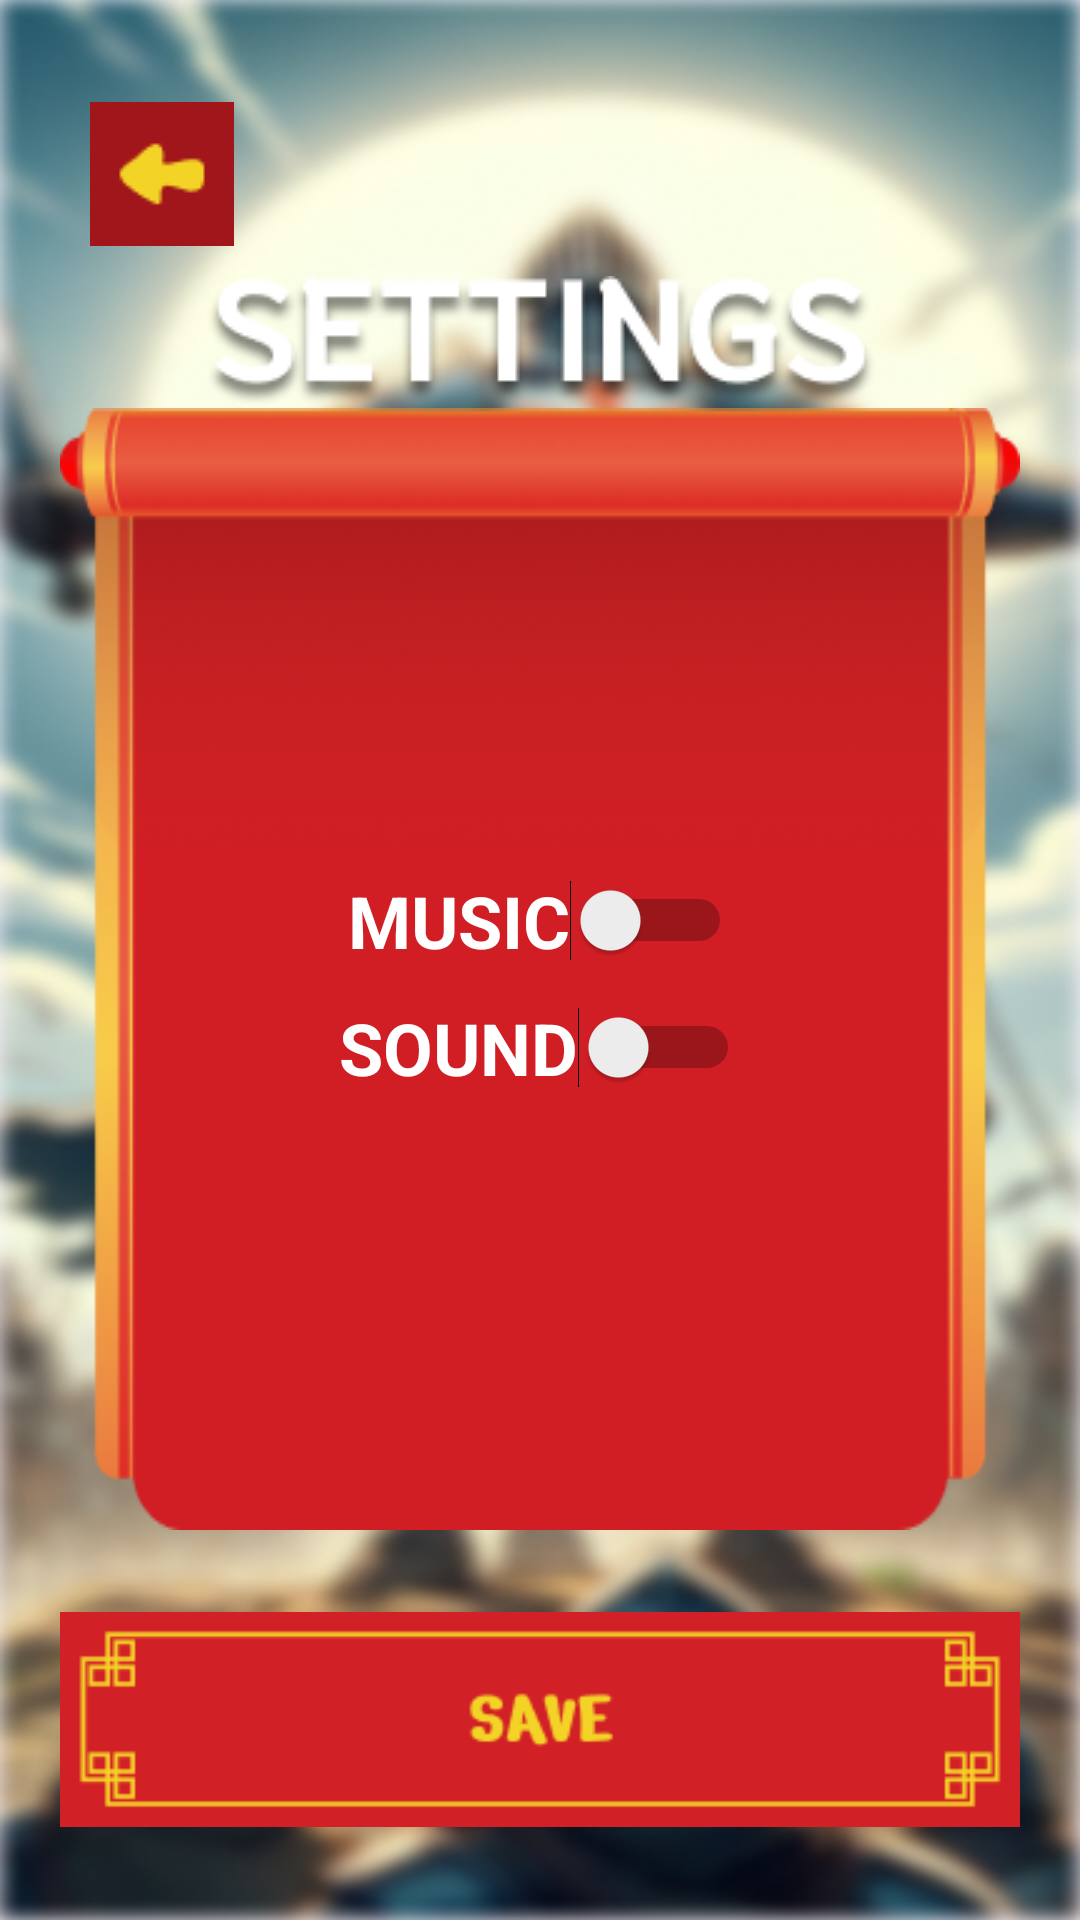

Point at icon controls on the screen. Image size 1080px×1920px, points as point (x, y).
backbtn: point (162, 174)
